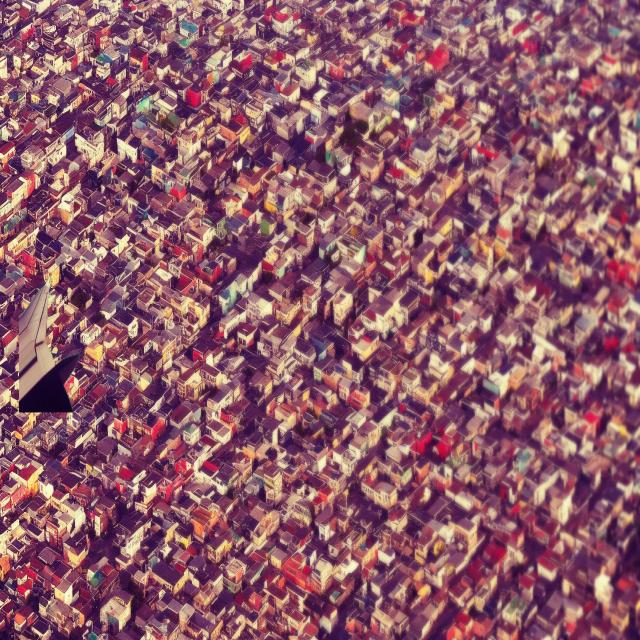airplane: (19, 277, 76, 411)
